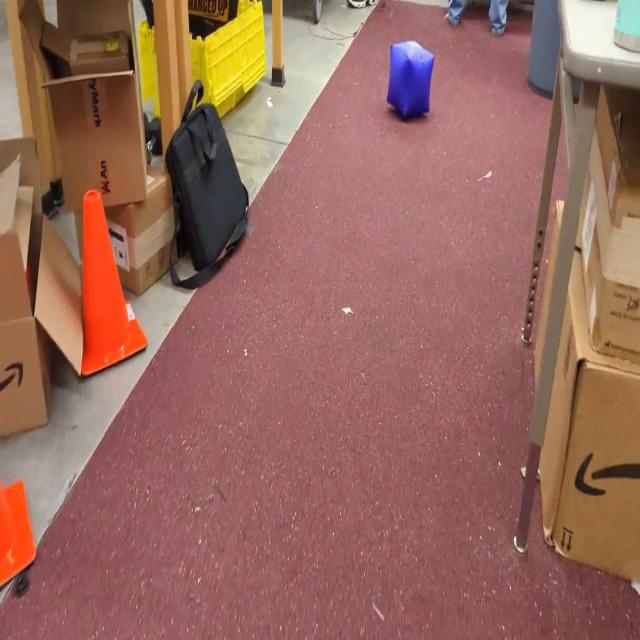frc_cube: (387, 36, 437, 122)
